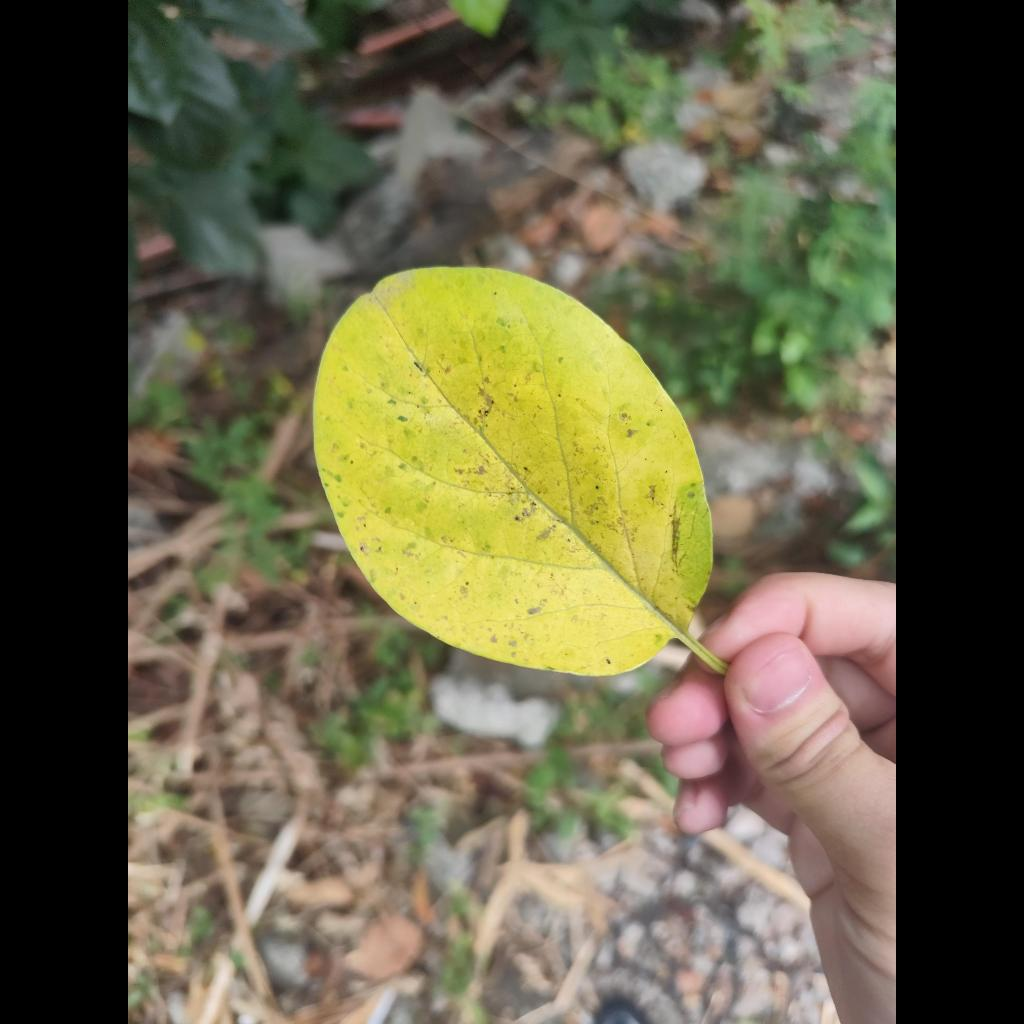nutrient_deficiency: (314, 268, 712, 675)
